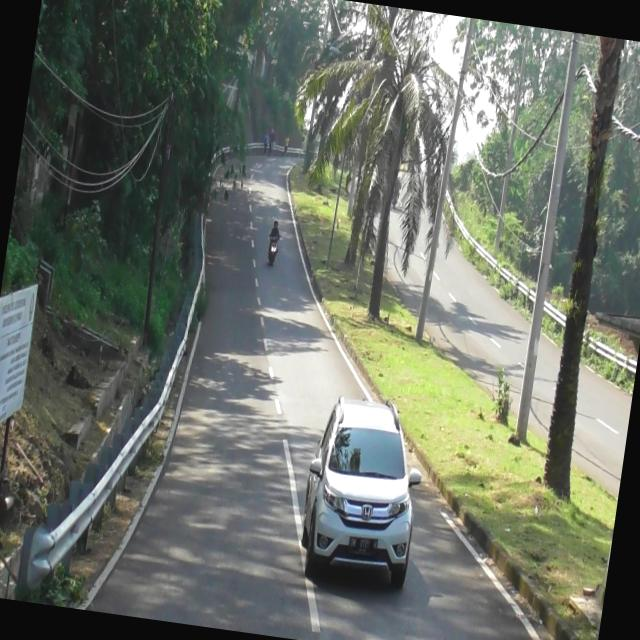motorcycle: (265, 234, 280, 266)
person: (268, 220, 282, 243)
rider_region: (264, 215, 282, 268)
